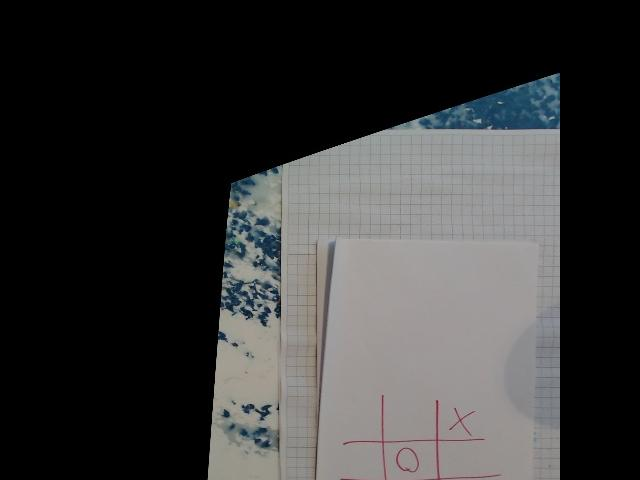O: (394, 444, 420, 476)
X: (446, 400, 478, 434)
grid: (338, 390, 499, 480)
